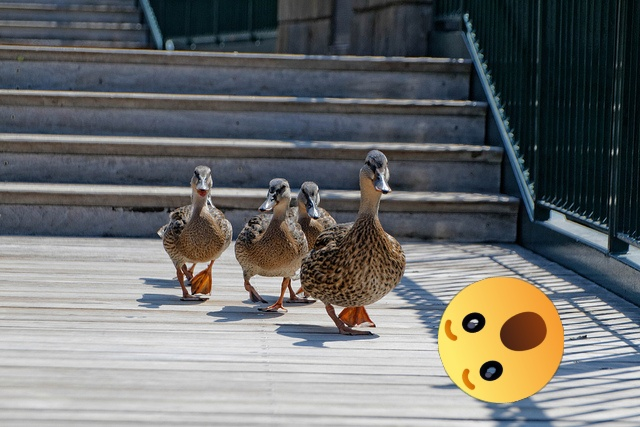wow: (438, 277, 564, 403)
